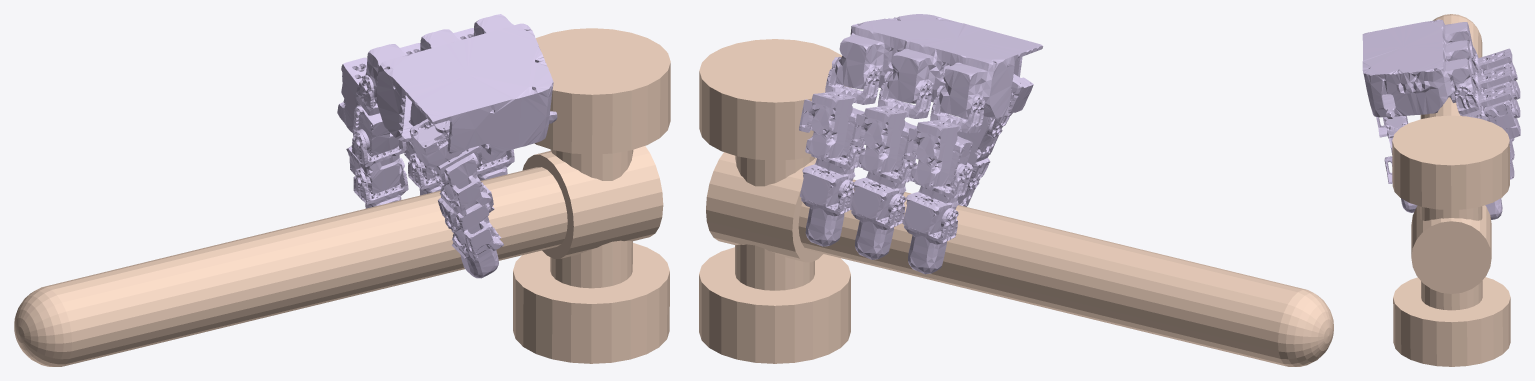
The model's file is 57401330d4b373-closed.glb.
The picture shows the model from 3 angles, left to right: view 1: azimuth 30°, elevation 25°; view 2: azimuth 150°, elevation 25°; view 3: azimuth 270°, elevation 25°; orthographic projection. The views are drawn at different scales.
Visible parts, largest first — view 1: world, LEAP_hand; view 2: world, LEAP_hand; view 3: world, LEAP_hand.
Boxes of the visible parts, x1,y1,x2,y2 form: world: (14, 28, 670, 366); LEAP_hand: (337, 14, 557, 278); world: (699, 39, 1333, 366); LEAP_hand: (799, 14, 1043, 274); world: (1392, 14, 1510, 366); LEAP_hand: (1362, 19, 1520, 219).
Bounding box in the file's own units: 0.5371 × 0.2647 × 0.1535.
